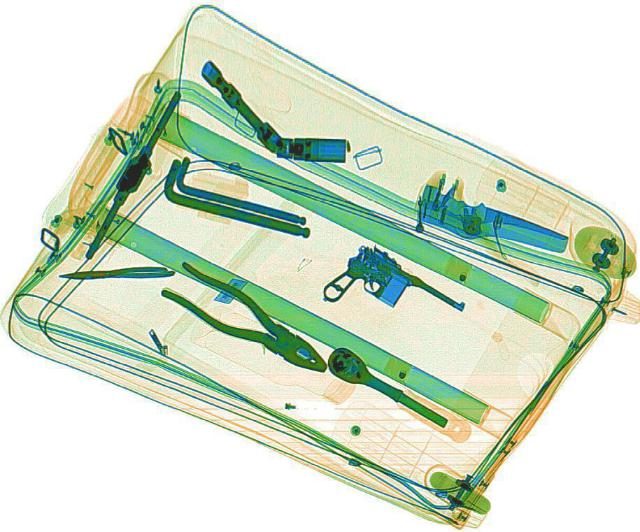Gun: (312, 238, 472, 352)
Pliers: (150, 257, 342, 385), (54, 262, 174, 280)
